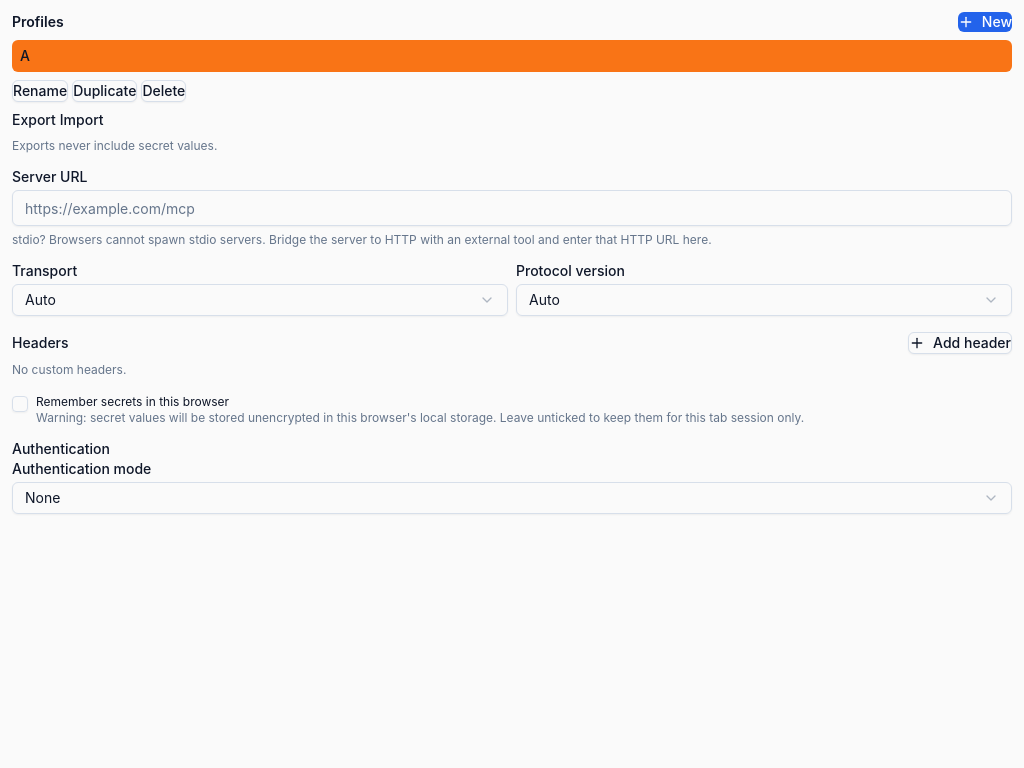
Test: header editor › lists invalid header names and Fetch-forbidden warnings under the editor
This screenshot has width=1024, height=768.
Step 1. Click the button "Add header" → (960, 343), box [908,332,1012,354]
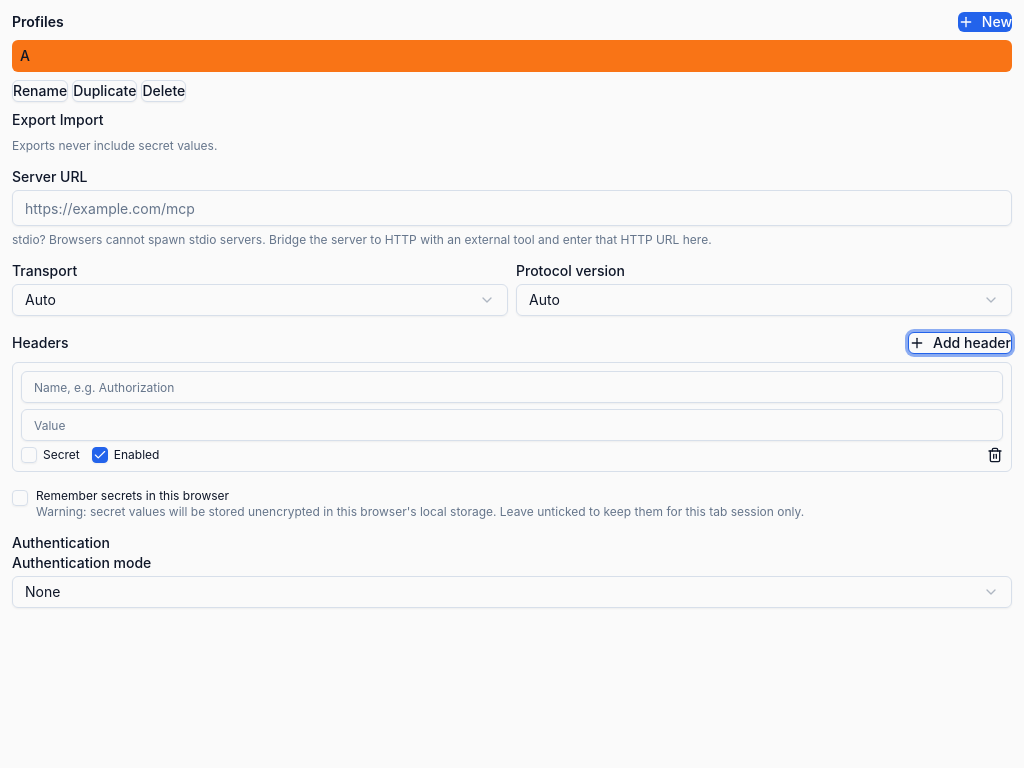
Step 2. Type "Bad Name" into the field named "Header 1 name" → (512, 387), box [21,371,1003,403]
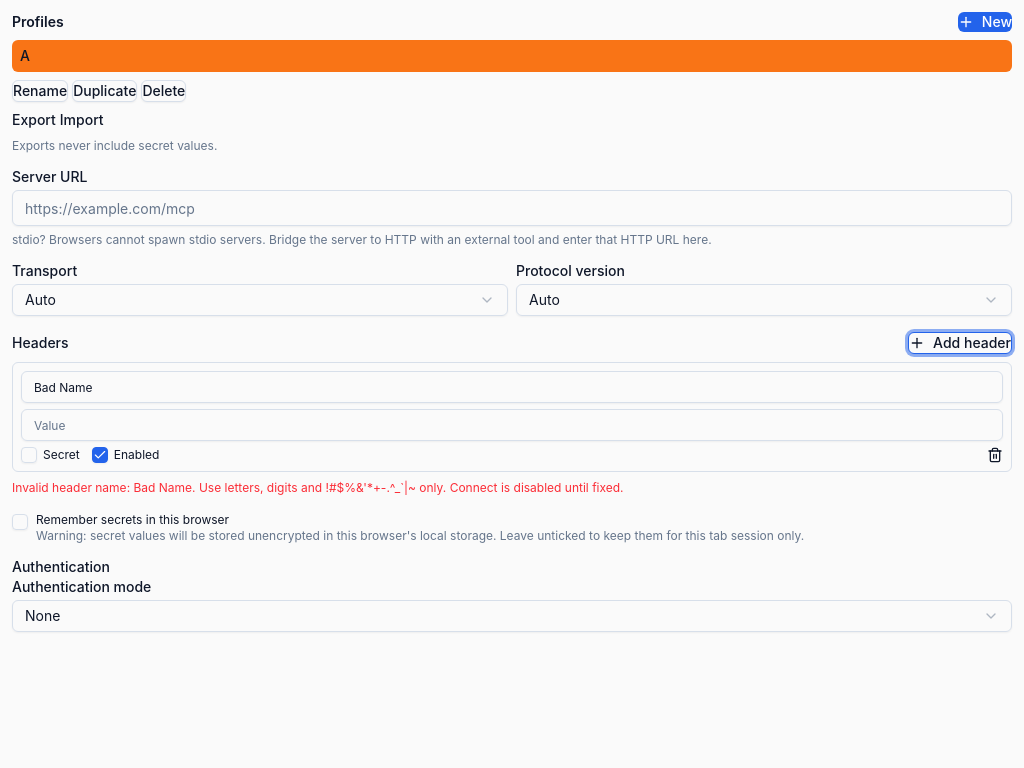
Expected: the text "Invalid header name: Bad Name" is shown, [12,480,624,495]
Step 3. Replace the text in the field named "Header 1 name" with "Host" → (512, 387), box [21,371,1003,403]
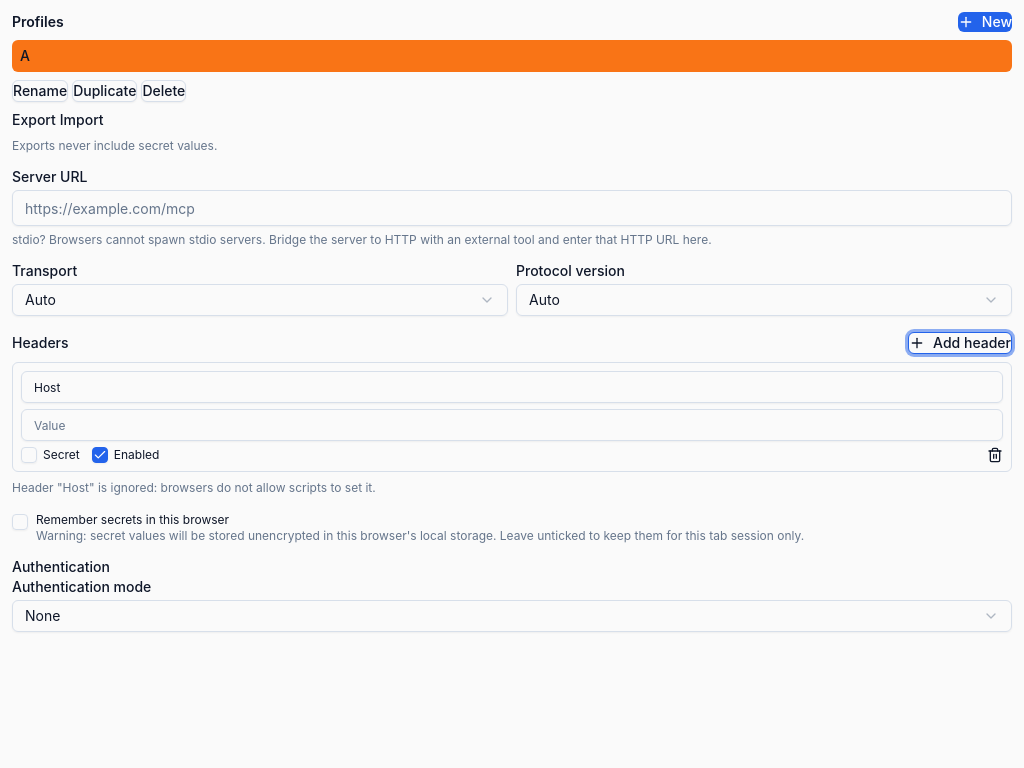
Expected: the text "Invalid header name" is gone
Expected: the 3rd list item is shown, [12,480,376,495]
